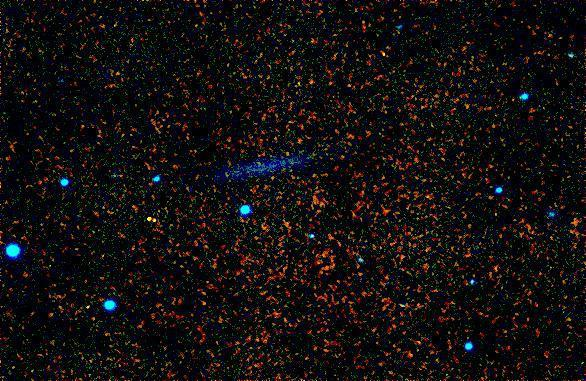star: (136, 199, 166, 229)
